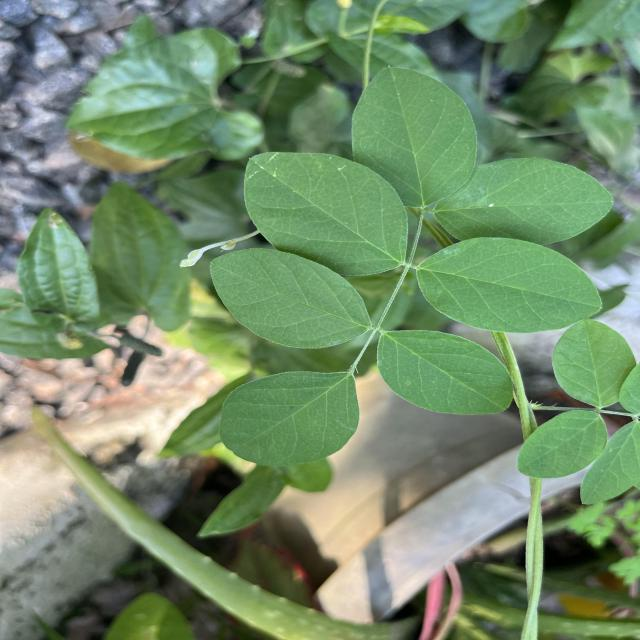Clitoria ternatea: (241, 150, 409, 276), (349, 64, 478, 208), (414, 236, 603, 334), (431, 156, 616, 248), (209, 248, 374, 350), (217, 369, 362, 468), (376, 329, 514, 416)
